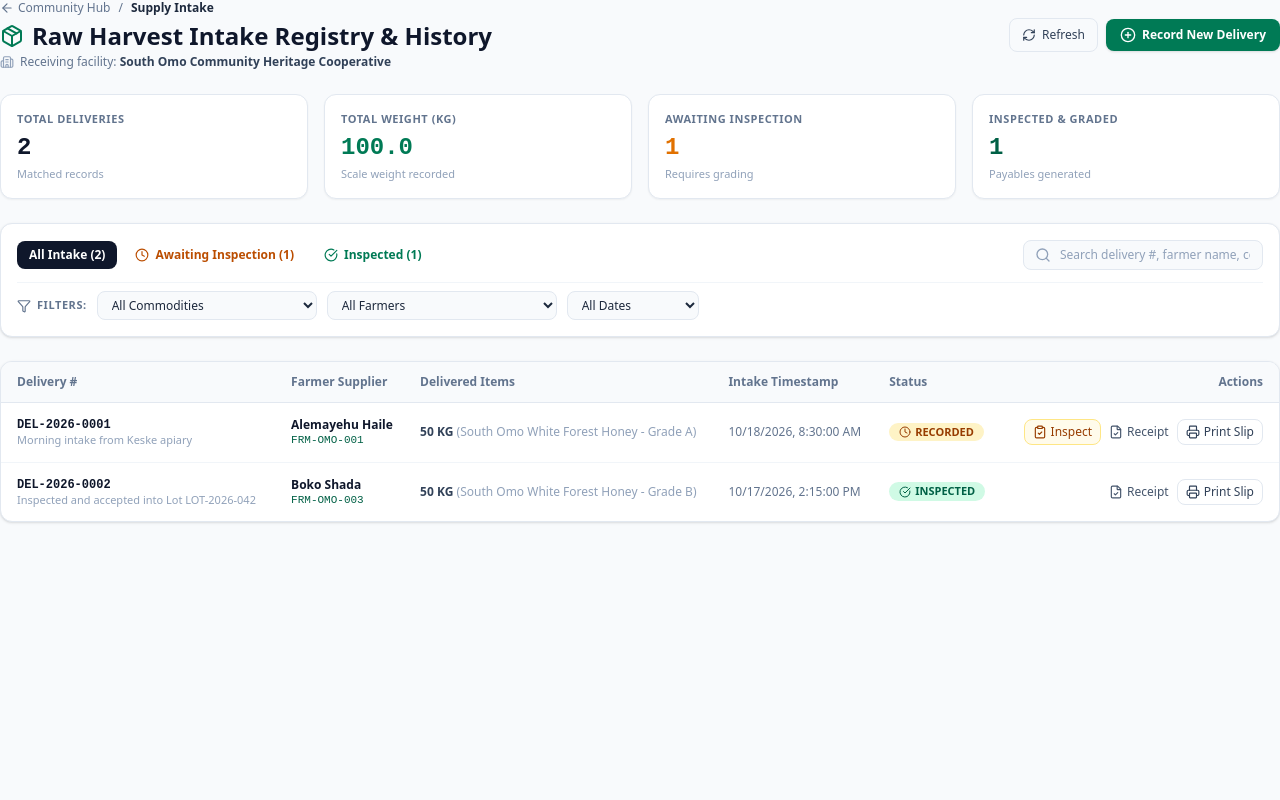
Raw Harvest Supply Intake & Receipt Generation (F-804) › opens record delivery modal with large inputs and farmer select
expect the text "DEL-2026-0001" is shown: met, box [17,418,111,432]
Click the button with test id "open-record-delivery-button". click: (1193, 35)
box: [1106,19,1279,51]
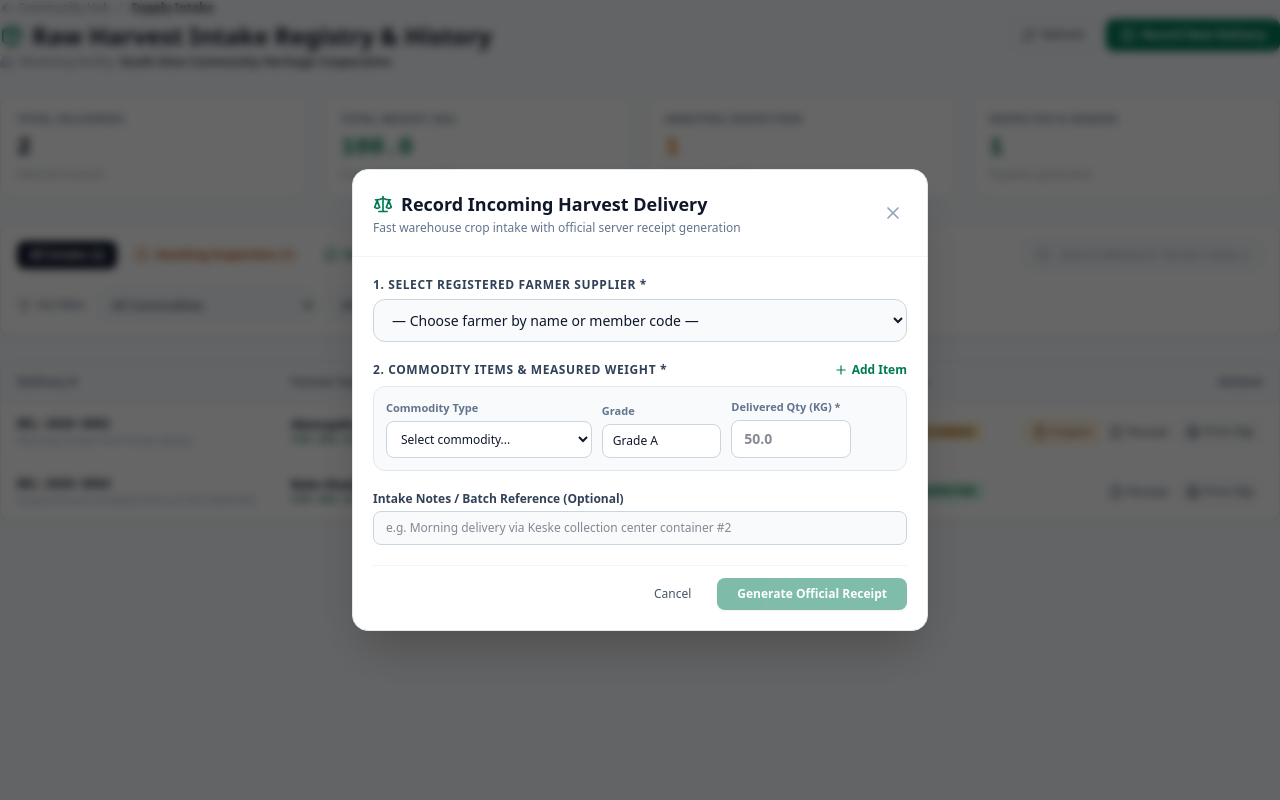
expect the text "Record Incoming Harvest Delivery" is shown: met, box [401,190,708,218]
expect the dropdown with test id "farmer-select" is shown: met, box [373,299,907,342]
expect the dropdown with test id "item-type-select-0" is shown: met, box [386,421,592,458]
